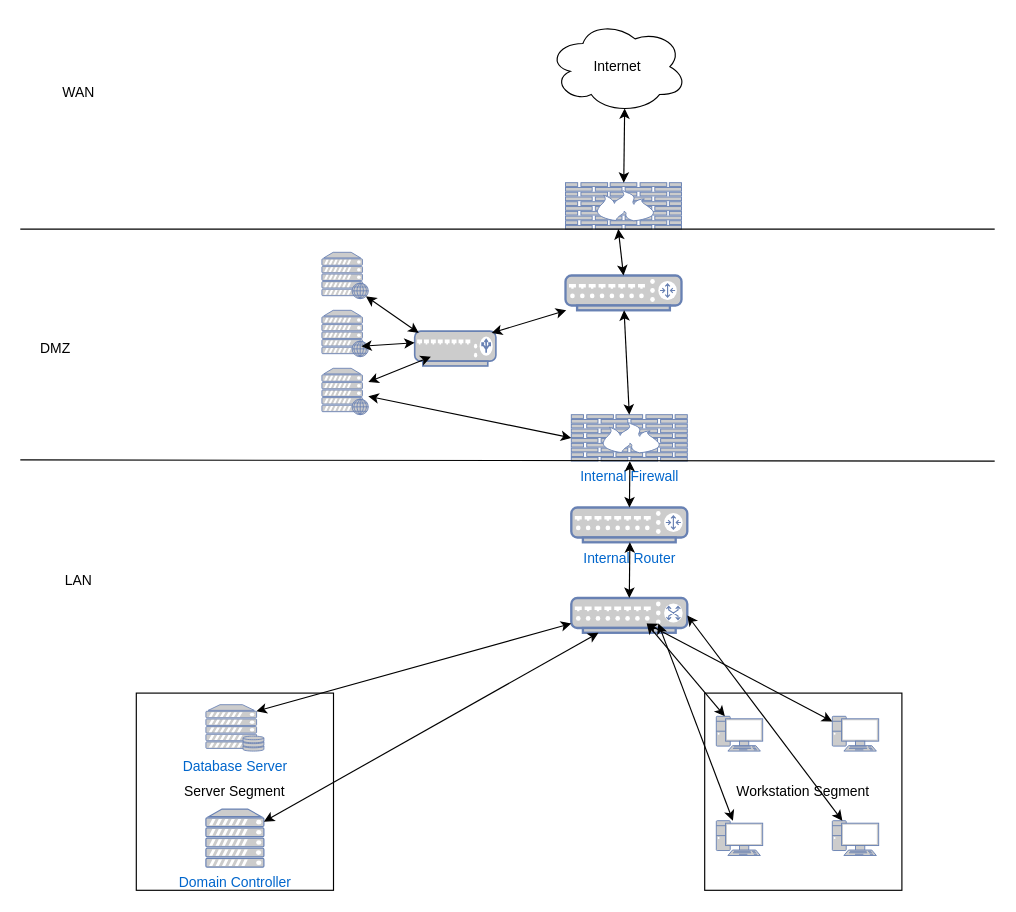
Some shapes in this 1016 by 912 pixel diagram are drawn without their labels. The box of each missing label's shape, as (x1, y1, x2, y2) in pixels:
External Firewall: (564, 181, 682, 230)
External Router: (564, 274, 682, 311)
Switch: (570, 596, 688, 633)
